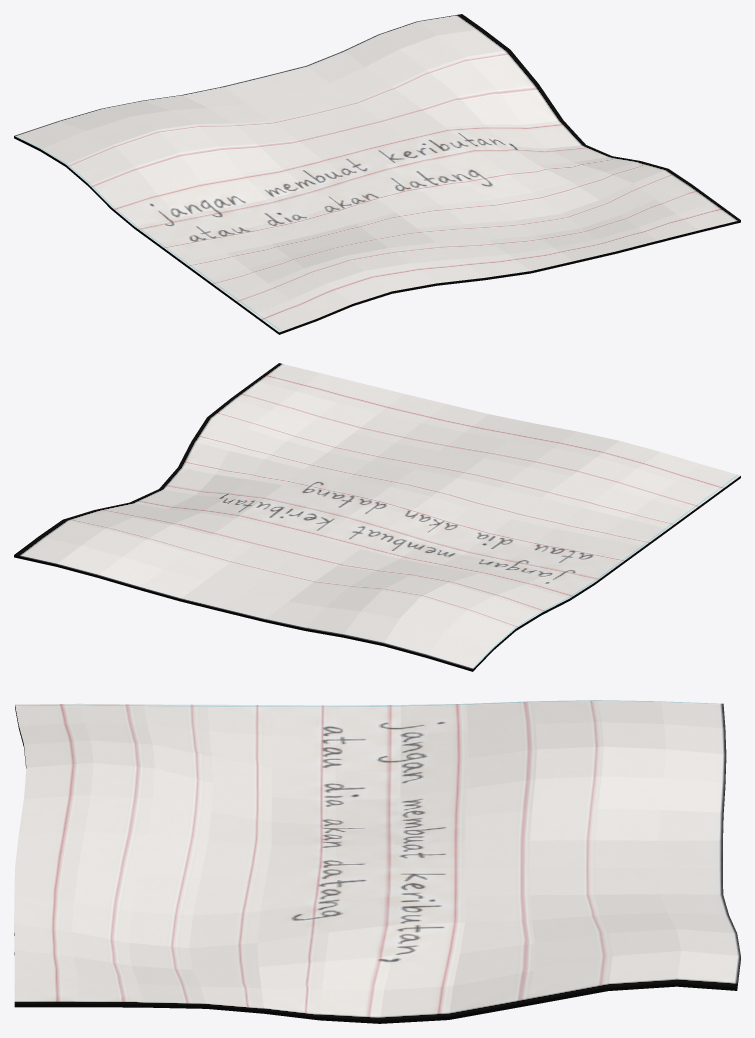
The model's file is Catatan1.fbx.
The picture shows the model from 3 angles, top to bottom: view 1: azimuth 30°, elevation 25°; view 2: azimuth 150°, elevation 25°; view 3: azimuth 270°, elevation 25°; orthographic projection. The views are drawn at different scales.
Visible parts, largest first — view 1: Catatan; view 2: Catatan; view 3: Catatan.
Boxes of the visible parts, box(x1,y1,x2,y2) form: Catatan: box(14, 14, 740, 334); Catatan: box(14, 363, 740, 671); Catatan: box(14, 700, 740, 1023).
Bounding box in the file's own units: 200 × 16.66 × 205.
Materials: 1 (1 with a texture image).
